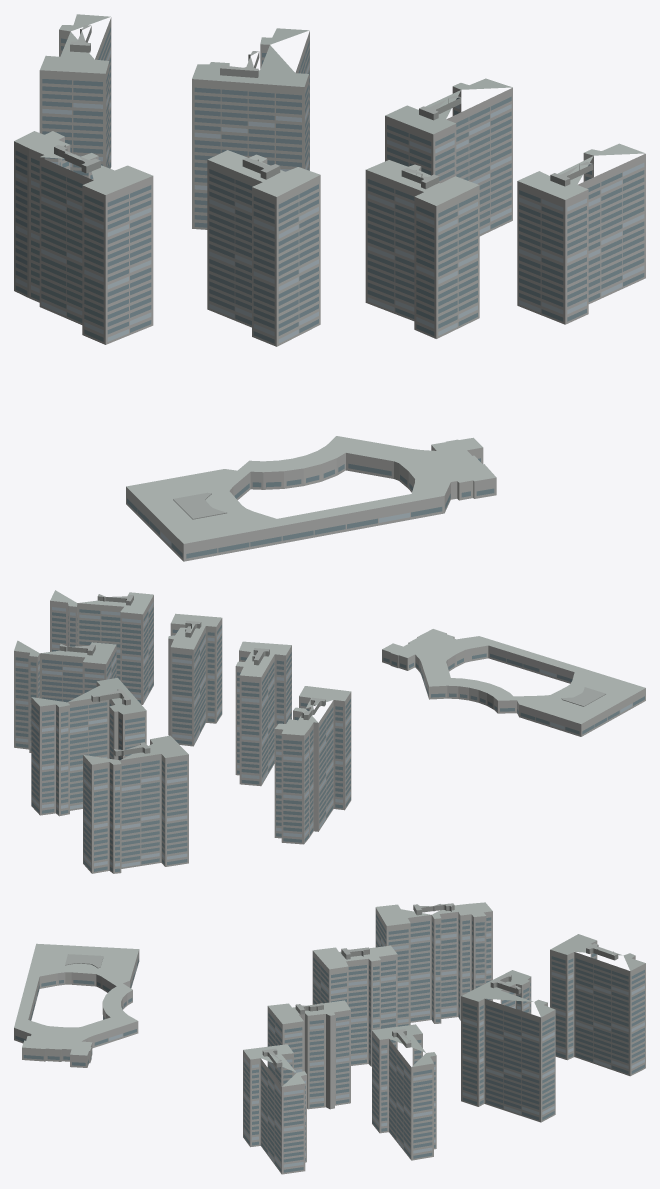
Rendered from apt-a12127004.glb.
3 renders of one model, top to bottom at view 1: azimuth 30°, elevation 25°; view 2: azimuth 150°, elevation 25°; view 3: azimuth 270°, elevation 25°, orthographic. The views are drawn at different scales.
Parts seen in each view (by area): view 1: apt-a12127004; view 2: apt-a12127004; view 3: apt-a12127004.
Boxes of the visible parts, bbox=[...] form: apt-a12127004: bbox=[14, 14, 645, 561]; apt-a12127004: bbox=[14, 590, 645, 873]; apt-a12127004: bbox=[14, 902, 645, 1174].
Bounding box in the file's own units: 230 × 54 × 281.
